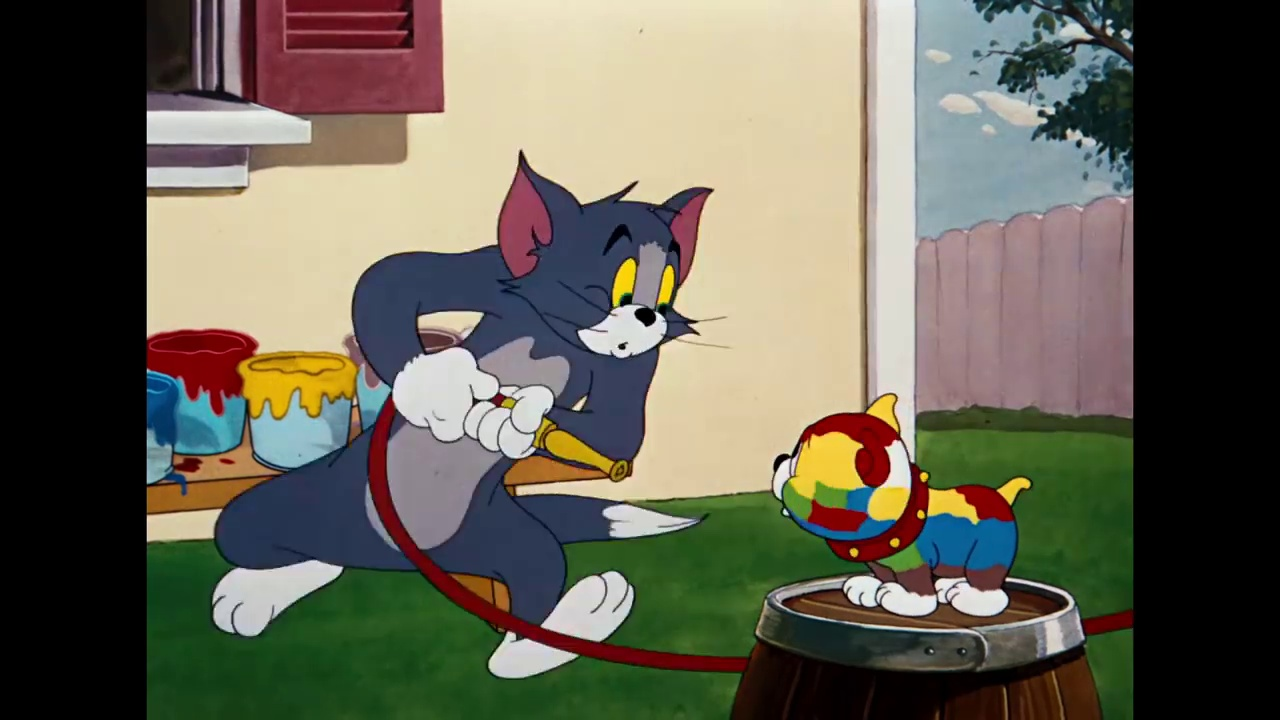tom: (482, 145, 714, 370)
